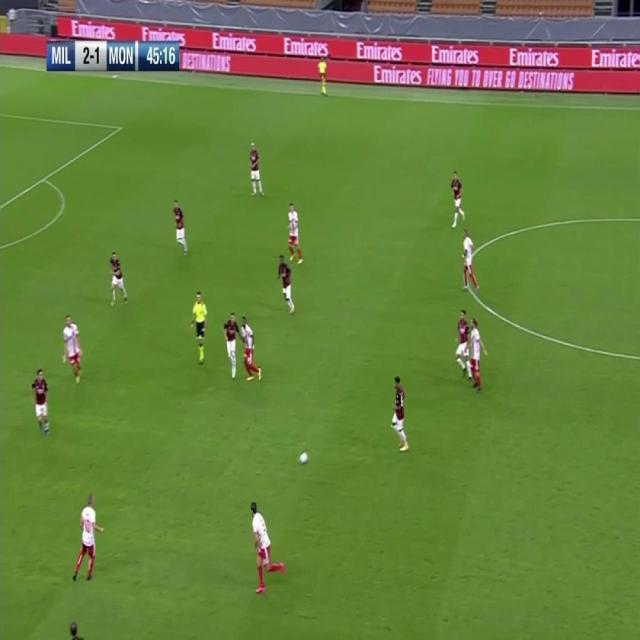ball: (298, 449, 310, 465)
player: (250, 499, 286, 595), (71, 494, 104, 585), (60, 312, 85, 387), (389, 373, 411, 453), (239, 314, 263, 385), (468, 317, 488, 393), (31, 366, 51, 440), (454, 308, 471, 384), (108, 250, 130, 308), (286, 201, 305, 267), (461, 228, 480, 294), (277, 254, 297, 316), (223, 310, 240, 380), (450, 168, 466, 230), (172, 198, 189, 256), (248, 141, 265, 198)
referee: (192, 289, 209, 365), (318, 51, 329, 97)
